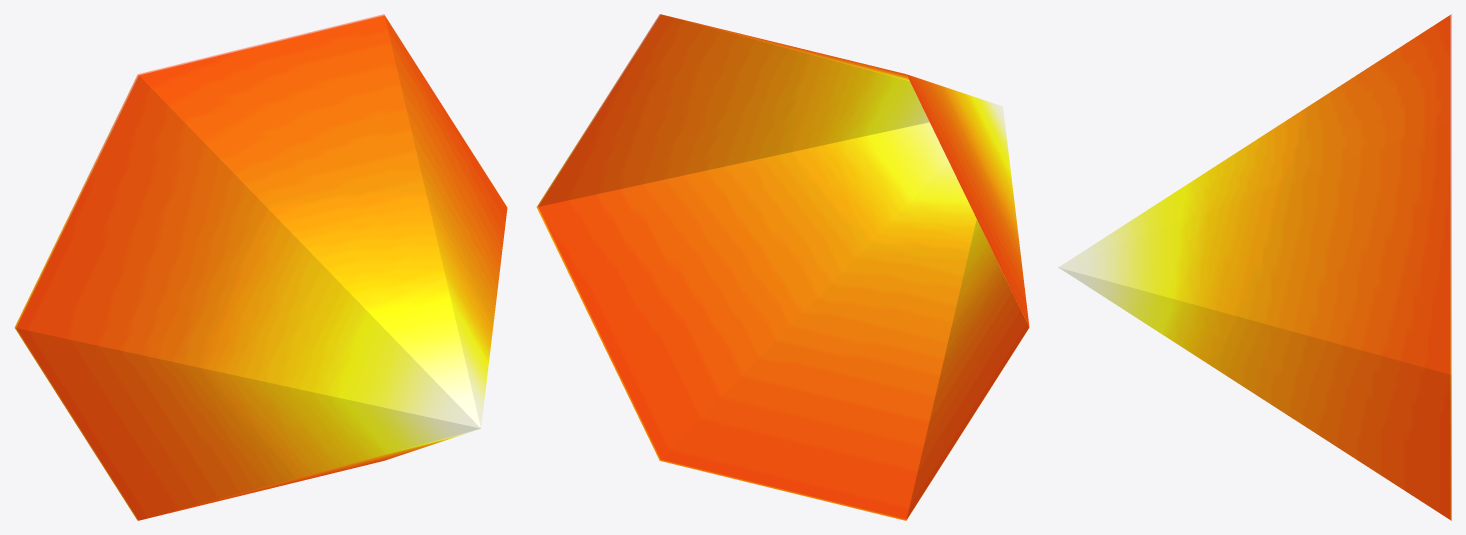
Rendered from firestrato.glb.
The picture shows the model from 3 angles, left to right: view 1: azimuth 30°, elevation 25°; view 2: azimuth 150°, elevation 25°; view 3: azimuth 270°, elevation 25°; orthographic projection. The views are drawn at different scales.
Parts seen in each view (by area): view 1: firestrato; view 2: firestrato; view 3: firestrato.
Boxes of the visible parts, left/top/right/bottom form: firestrato: left=14, top=14, right=507, bottom=520; firestrato: left=536, top=14, right=1029, bottom=520; firestrato: left=1058, top=14, right=1451, bottom=520.
Bounding box in the file's own units: 68.69 × 59.49 × 53.1.
1 material, 1 textured.
